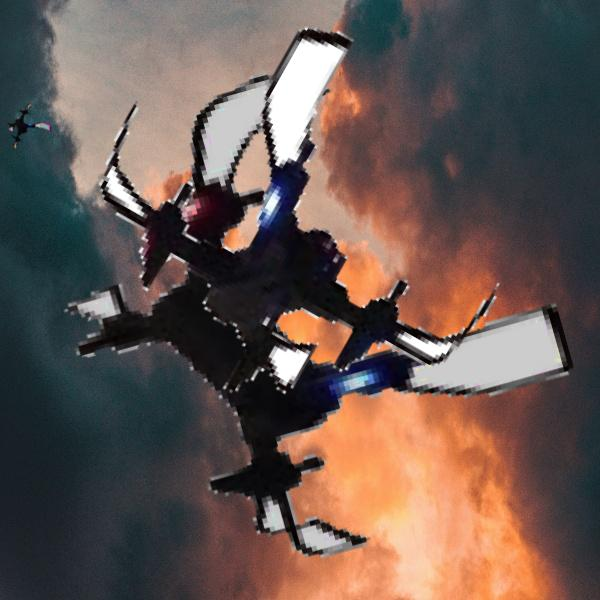drone: (49, 66, 551, 568), (100, 8, 526, 434), (4, 105, 56, 157)
